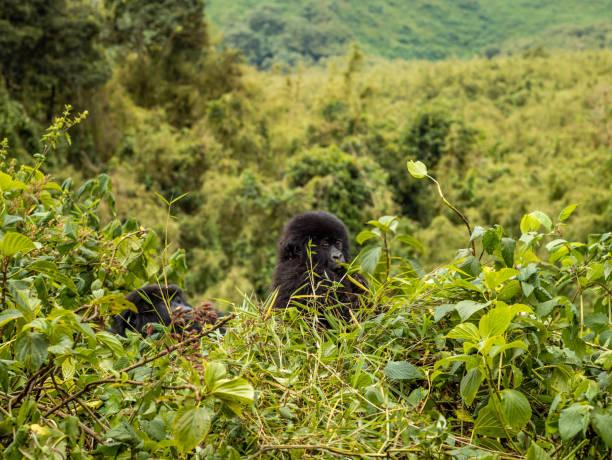goriile_montagne: (275, 190, 361, 309), (126, 274, 205, 331)
